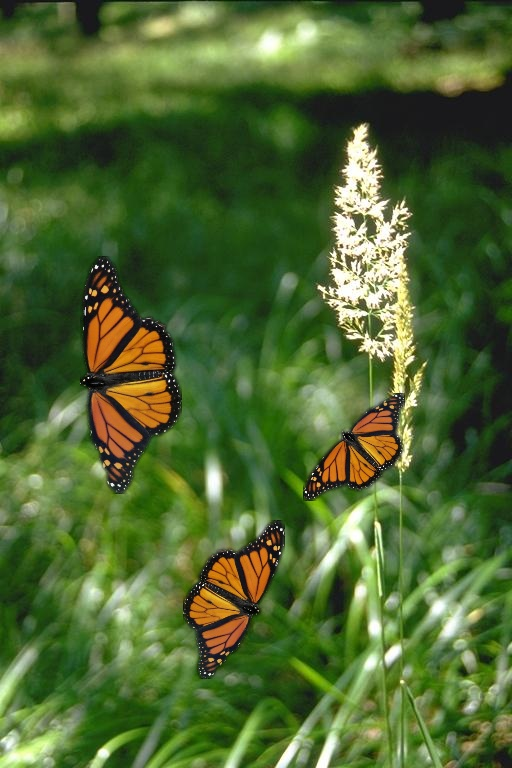danaus_plexippus: (80, 256, 182, 494), (183, 520, 285, 679), (303, 393, 405, 501)
